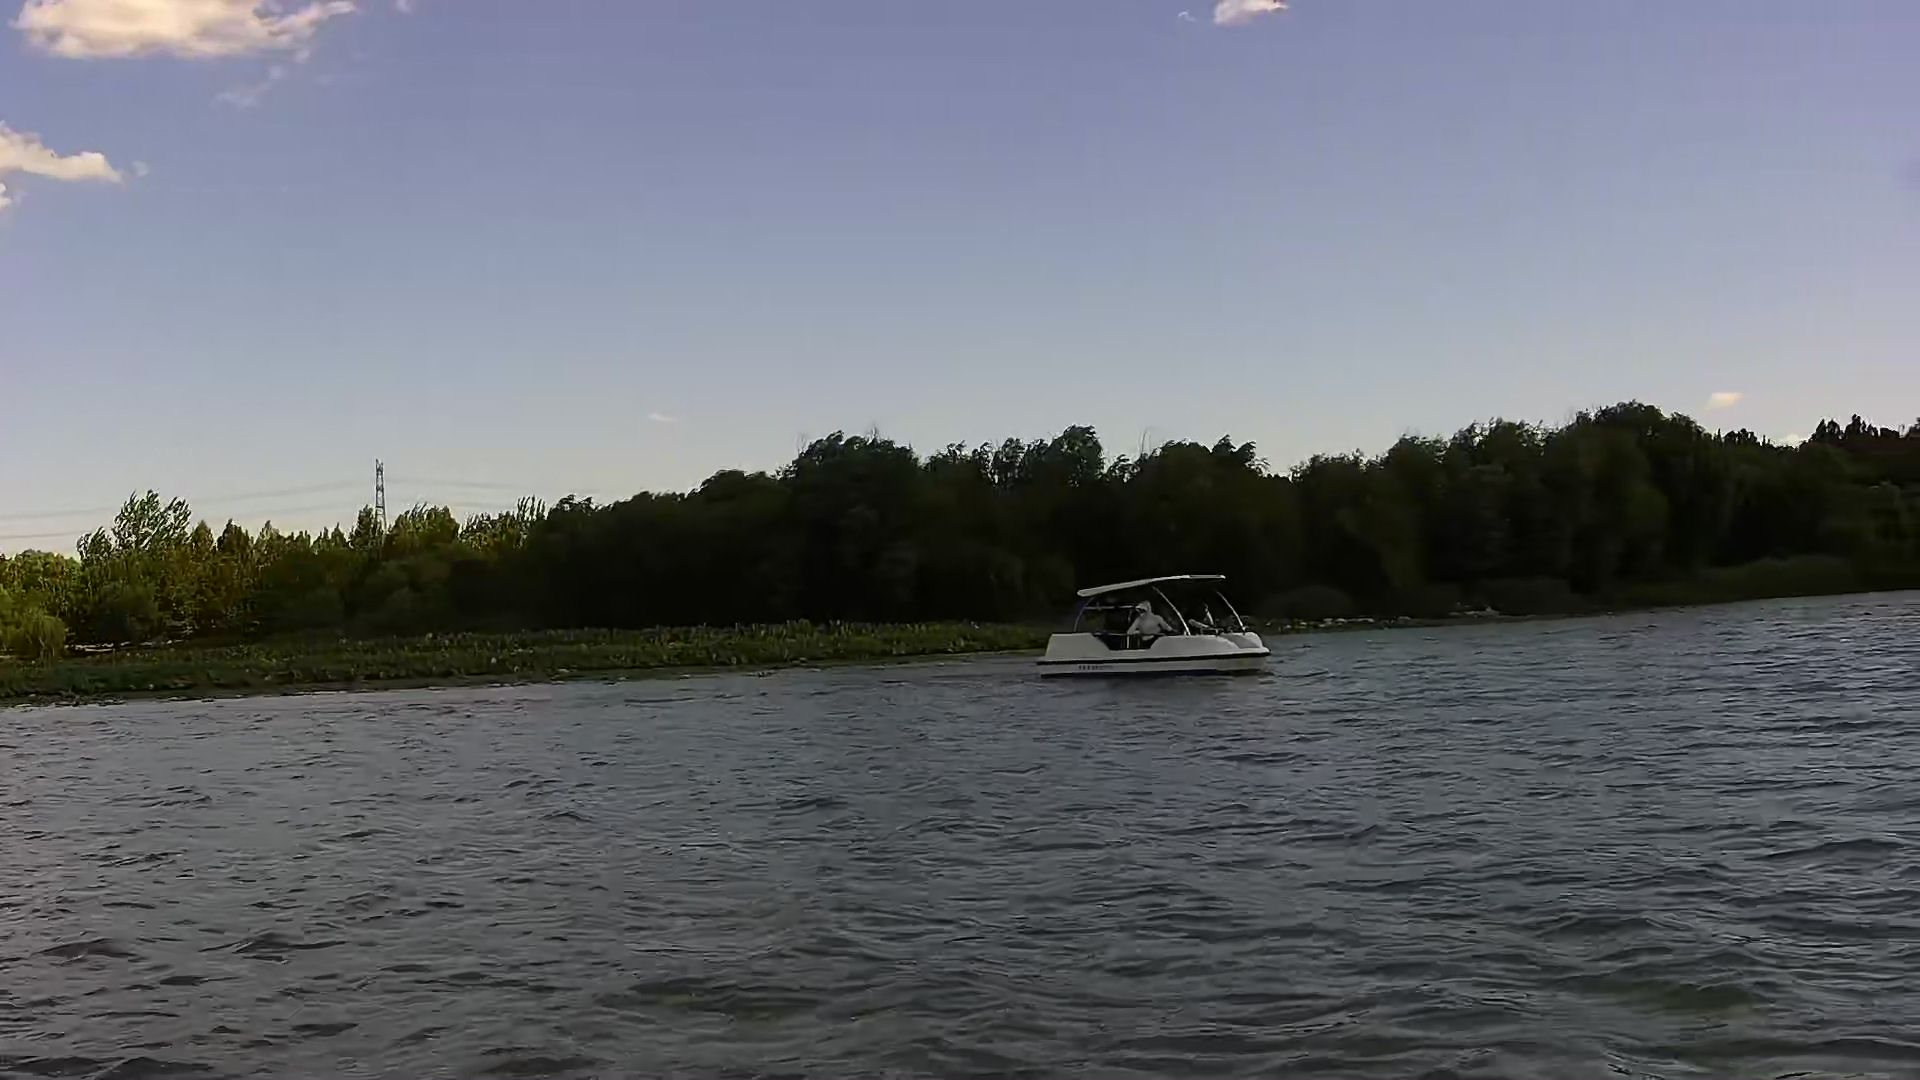boat: (1027, 568, 1283, 683)
person: (1128, 602, 1172, 651)
